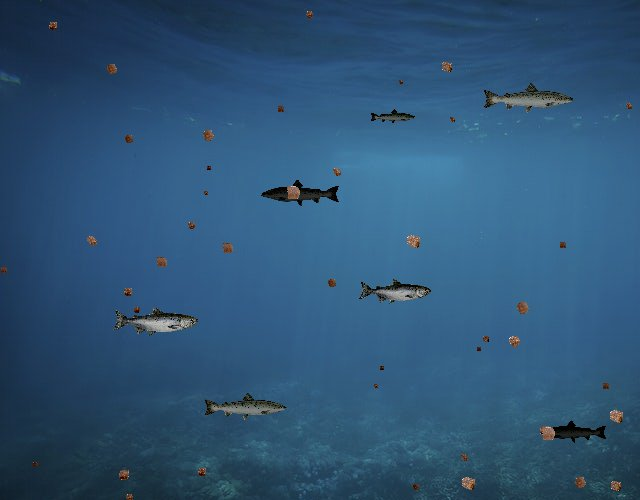Fish: (482, 82, 576, 116), (202, 391, 288, 422), (112, 306, 198, 337), (260, 179, 341, 208), (359, 278, 432, 304), (541, 420, 609, 444), (370, 108, 417, 125)
Pellet: (510, 295, 536, 321), (502, 329, 527, 354), (80, 230, 102, 252), (478, 332, 492, 346), (200, 188, 210, 198)
